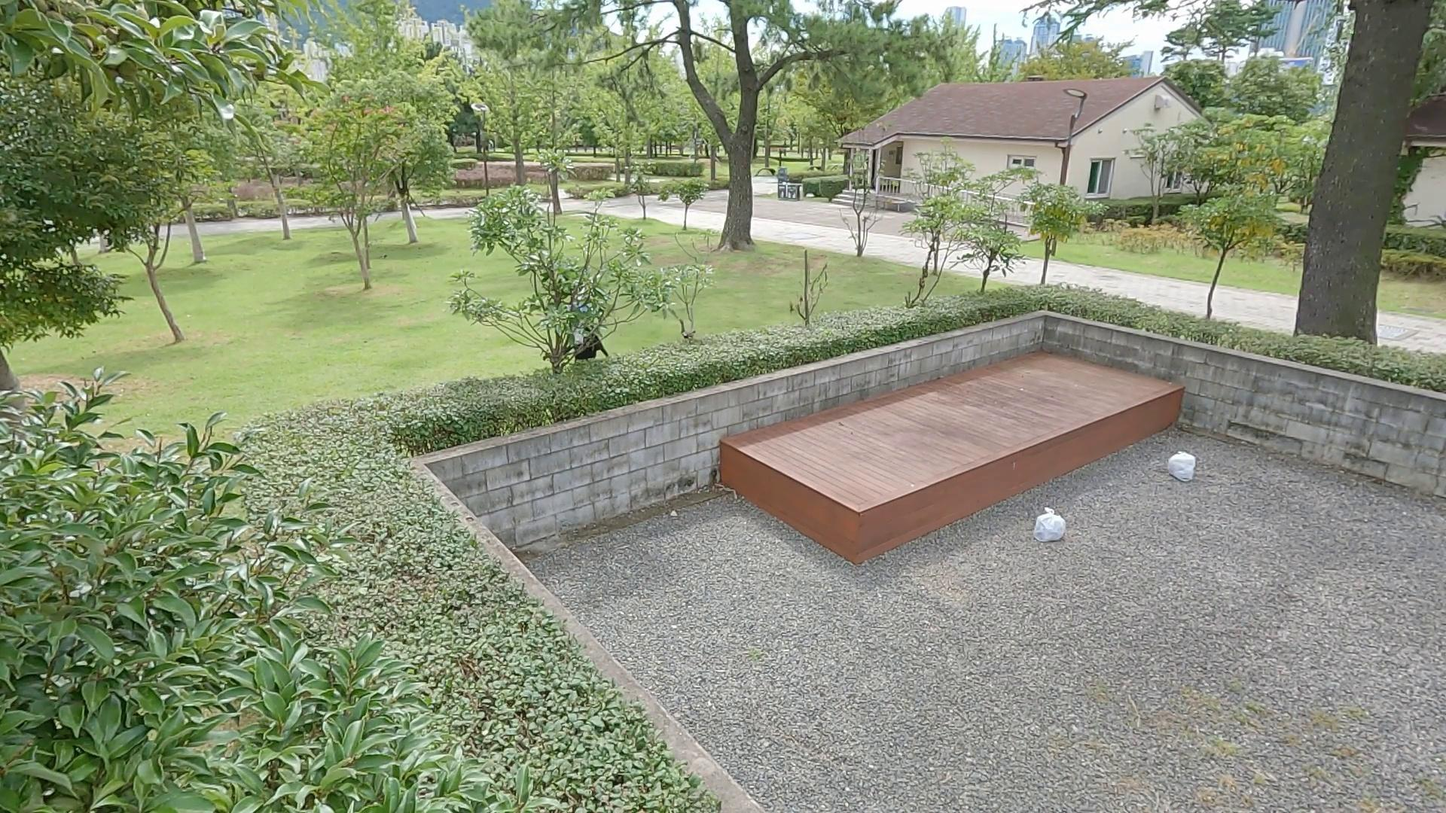trash: (1031, 504, 1069, 543), (1168, 447, 1200, 487)
